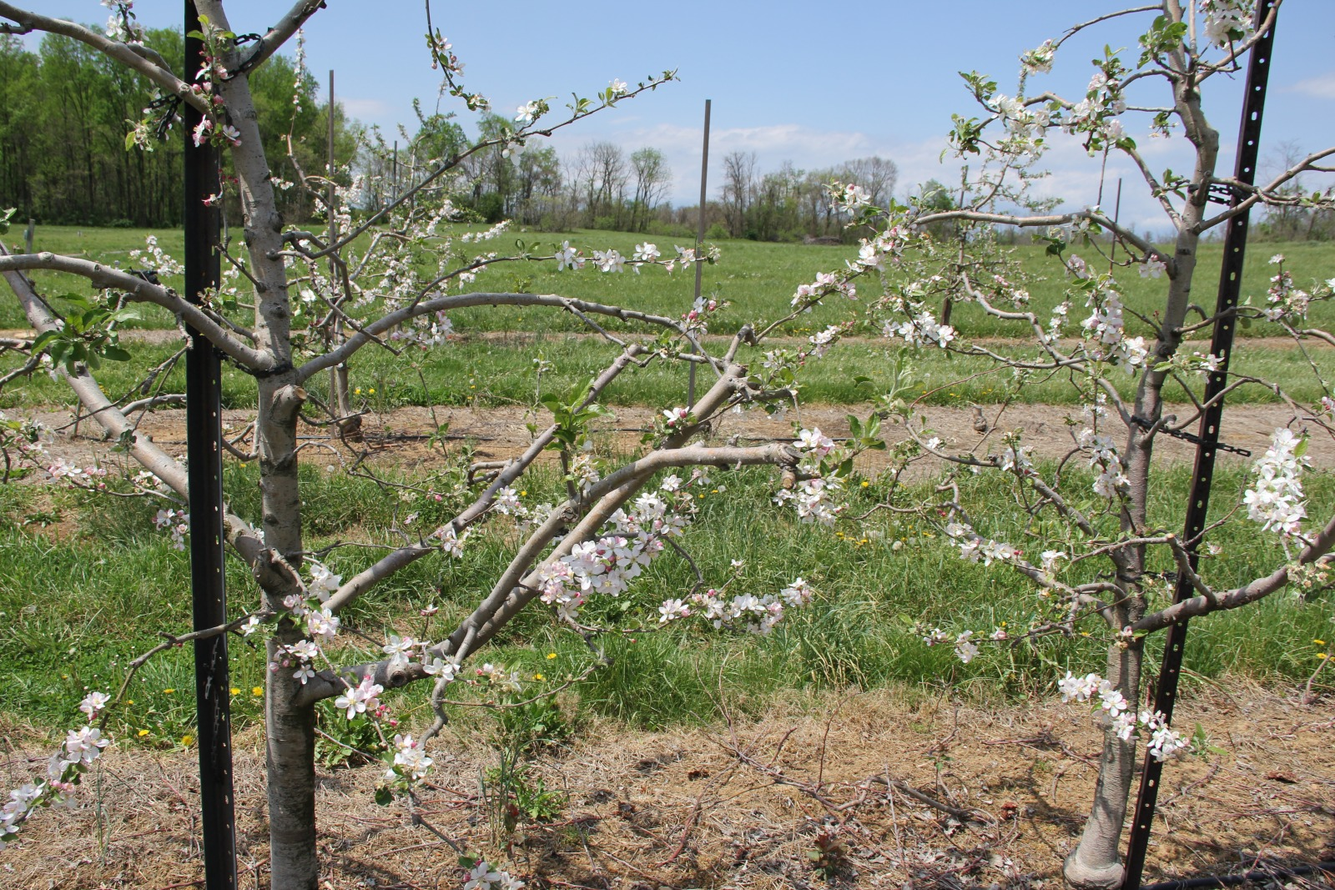flower: (537, 487, 695, 623), (1241, 428, 1309, 550), (1081, 288, 1151, 375), (1058, 671, 1140, 745), (988, 94, 1054, 161), (693, 593, 786, 638), (46, 727, 114, 786), (844, 222, 911, 279), (1078, 428, 1131, 499), (772, 476, 839, 529), (879, 309, 960, 349), (1140, 703, 1191, 763), (391, 310, 465, 350), (1203, 0, 1263, 49), (947, 522, 1012, 567), (0, 782, 47, 838), (791, 271, 860, 308), (793, 427, 848, 471), (335, 674, 385, 720), (460, 862, 526, 890), (394, 734, 434, 780), (305, 563, 344, 603), (514, 503, 558, 535), (423, 646, 461, 681), (308, 606, 341, 645), (839, 180, 872, 217), (42, 458, 87, 485), (809, 325, 842, 360), (46, 782, 83, 813), (1269, 279, 1313, 305), (659, 598, 698, 626), (780, 577, 815, 608), (1071, 97, 1107, 126), (592, 249, 632, 274), (555, 241, 587, 272), (383, 634, 414, 666), (488, 485, 521, 515), (1025, 49, 1056, 78), (80, 691, 111, 720), (954, 631, 981, 664), (441, 525, 466, 559), (1097, 119, 1128, 146), (1088, 72, 1120, 98), (1192, 350, 1225, 375), (106, 12, 132, 43), (285, 640, 319, 663), (502, 142, 528, 171), (505, 101, 540, 122), (31, 420, 59, 445), (633, 241, 662, 264), (1140, 254, 1166, 279), (660, 470, 687, 493), (284, 595, 312, 617), (675, 244, 696, 273), (577, 470, 600, 494), (236, 615, 259, 639), (153, 509, 178, 531), (219, 115, 240, 141), (663, 404, 690, 424), (688, 297, 709, 322), (1040, 550, 1068, 568), (1045, 318, 1064, 343), (1110, 90, 1128, 116), (1056, 116, 1082, 134), (171, 525, 188, 551), (691, 467, 713, 487), (293, 665, 315, 685), (193, 115, 206, 148), (609, 78, 631, 96), (1002, 447, 1016, 475), (759, 351, 779, 370), (1017, 446, 1035, 466), (302, 287, 320, 305), (49, 366, 67, 383), (196, 63, 212, 80), (468, 93, 488, 106), (1053, 301, 1073, 314), (1264, 308, 1287, 319), (1076, 219, 1091, 234), (926, 437, 943, 449), (1268, 254, 1287, 264), (101, 0, 119, 10), (629, 263, 644, 275), (1092, 345, 1104, 360), (675, 320, 688, 333), (383, 769, 397, 780), (1325, 279, 1335, 293), (0, 840, 11, 852), (27, 444, 43, 452), (935, 629, 947, 639), (414, 319, 431, 326), (712, 620, 722, 630), (924, 636, 934, 646), (731, 559, 745, 566), (687, 330, 695, 341)
